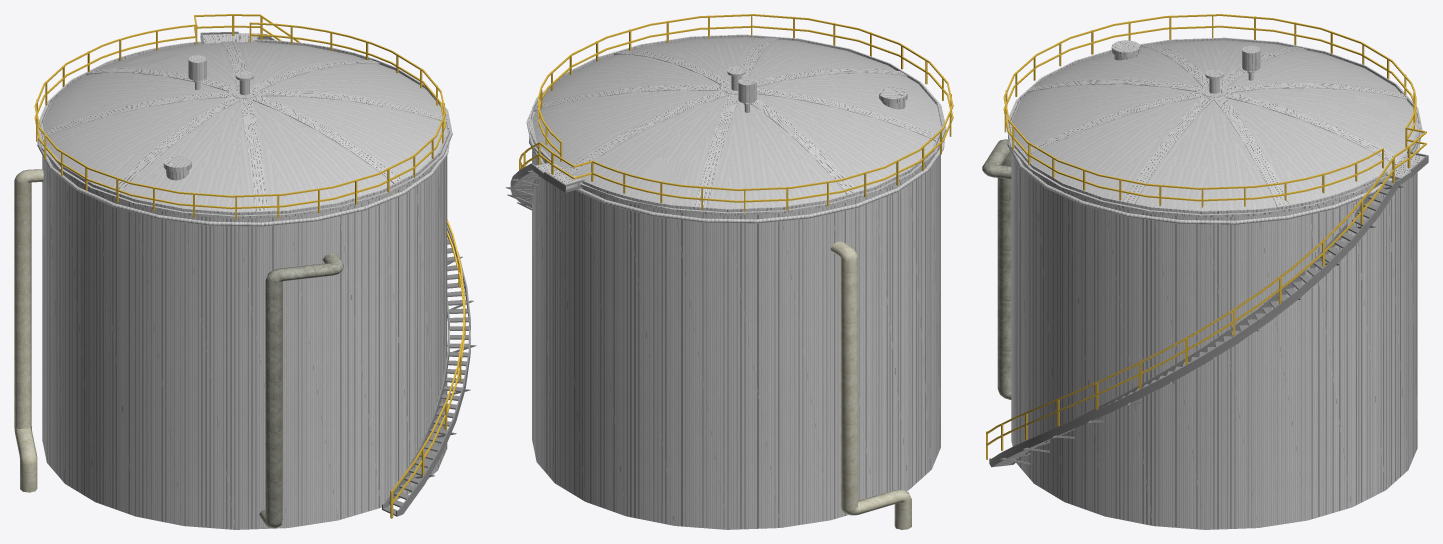
Rendered from guanzishu.fbx.
3 renders of one model, left to right at view 1: azimuth 30°, elevation 25°; view 2: azimuth 150°, elevation 25°; view 3: azimuth 270°, elevation 25°, orthographic.
Visible parts, largest first — view 1: 对象001, 对象002, 对象003, 对象004, 对象005, 对象006; view 2: 对象001, 对象003, 对象002, 对象006, 对象005; view 3: 对象001, 对象002, 对象005, 对象004, 对象006.
Boxes of the visible parts, box(x1,y1,x2,y2) form: 对象001: box(37, 33, 452, 529); 对象002: box(34, 14, 465, 504); 对象003: box(14, 169, 43, 492); 对象004: box(259, 253, 343, 528); 对象005: box(258, 33, 476, 516); 对象006: box(36, 14, 393, 518); 对象001: box(526, 34, 946, 529); 对象003: box(830, 241, 911, 529); 对象002: box(519, 14, 953, 202); 对象006: box(519, 107, 866, 212); 对象005: box(505, 163, 543, 210); 对象001: box(1006, 37, 1424, 529); 对象002: box(986, 14, 1416, 450); 对象005: box(989, 171, 1411, 467); 对象004: box(982, 139, 1011, 399); 对象006: box(986, 22, 1426, 459).
Bounding box in the file's own units: 19.13 × 18.22 × 18.56.
5 materials, 3 textured.
